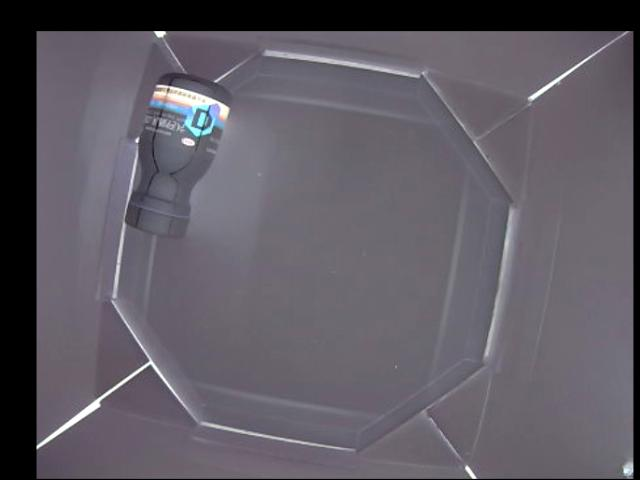Bottle: (123, 73, 231, 232)
